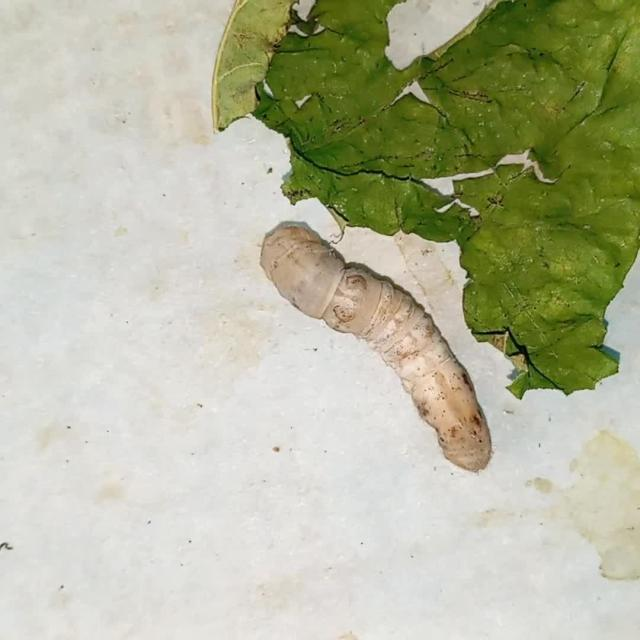Grasserie: (257, 208, 498, 478)
